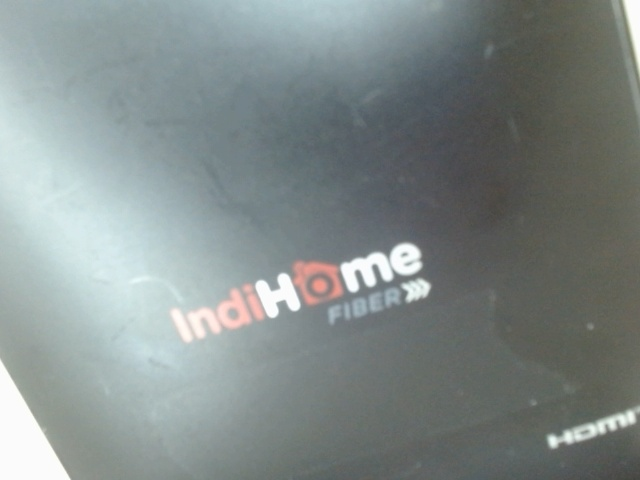AF_IndiHome: (147, 231, 443, 351)
